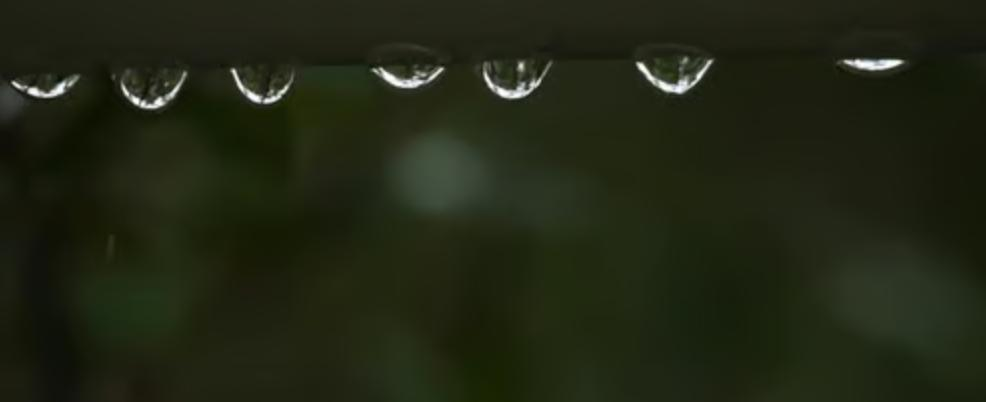water drop: (633, 50, 711, 94), (116, 65, 190, 106), (226, 63, 296, 104), (484, 55, 552, 96), (373, 53, 442, 89), (9, 70, 84, 100), (838, 47, 906, 76)
